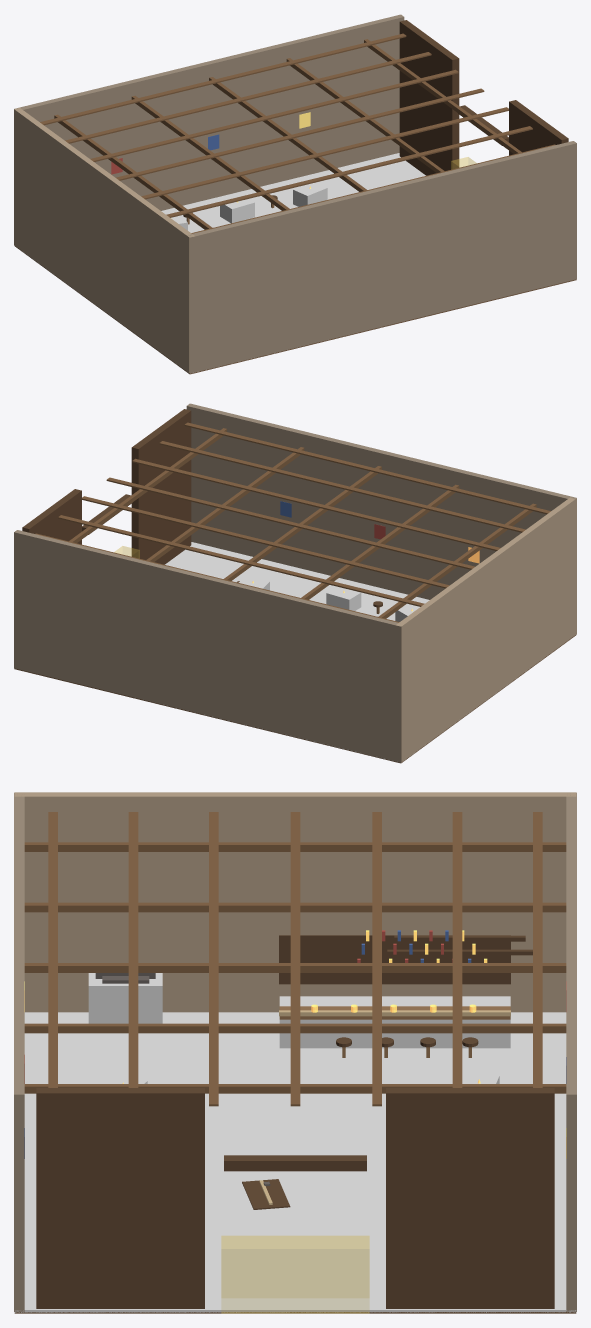
The model's file is town_tavern.glb.
3 views of the same model, one above another, from view 1: azimuth 30°, elevation 25°; view 2: azimuth 150°, elevation 25°; view 3: azimuth 270°, elevation 25° (orthographic). The views are drawn at different scales.
Parts seen in each view (by area): view 1: VIS_batch_MAT_tavern_smoky_plaster, VIS_west_bar_wall, VIS_batch_MAT_tavern_iso_hidden_ceiling, VIS_batch_MAT_tavern_dark_oak, COL_world_floor, VIS_floor_base, COL_table_north, COL_table_northeast; view 2: VIS_batch_MAT_tavern_smoky_plaster, VIS_west_bar_wall, VIS_batch_MAT_tavern_iso_hidden_ceiling, VIS_batch_MAT_tavern_dark_oak, COL_world_floor, VIS_floor_base, COL_table_south; view 3: VIS_batch_MAT_tavern_dark_oak, VIS_west_bar_wall, COL_world_floor, VIS_batch_MAT_tavern_iso_hidden_ceiling, TRG_exit_east_square, VIS_batch_MAT_tavern_smoky_plaster, COL_bar, COL_fireplace, VIS_batch_MAT_tavern_worn_wood, VIS_batch_MAT_tavern_worn_trim, VIS_floor_base, VIS_batch_MAT_tavern_amber_glow.
Part boxes in pixels (x1=…): VIS_batch_MAT_tavern_smoky_plaster: x1=14, y1=14, x2=576, y2=373; VIS_west_bar_wall: x1=14, y1=107, x2=194, y2=373; VIS_batch_MAT_tavern_iso_hidden_ceiling: x1=40, y1=33, x2=555, y2=233; VIS_batch_MAT_tavern_dark_oak: x1=183, y1=20, x2=568, y2=217; COL_world_floor: x1=24, y1=153, x2=425, y2=373; VIS_floor_base: x1=14, y1=245, x2=576, y2=374; COL_table_north: x1=220, y1=195, x2=254, y2=223; COL_table_northeast: x1=293, y1=182, x2=327, y2=206; VIS_batch_MAT_tavern_smoky_plaster: x1=14, y1=403, x2=576, y2=762; VIS_west_bar_wall: x1=396, y1=497, x2=576, y2=762; VIS_batch_MAT_tavern_iso_hidden_ceiling: x1=35, y1=422, x2=550, y2=622; VIS_batch_MAT_tavern_dark_oak: x1=22, y1=409, x2=399, y2=621; COL_world_floor: x1=163, y1=542, x2=525, y2=762; VIS_floor_base: x1=14, y1=634, x2=576, y2=763; COL_table_south: x1=326, y1=586, x2=361, y2=610; VIS_batch_MAT_tavern_dark_oak: x1=36, y1=935, x2=554, y2=1308; VIS_west_bar_wall: x1=14, y1=792, x2=576, y2=1012; COL_world_floor: x1=14, y1=1012, x2=576, y2=1312; VIS_batch_MAT_tavern_iso_hidden_ceiling: x1=24, y1=812, x2=566, y2=1106; TRG_exit_east_square: x1=221, y1=1236, x2=369, y2=1313; VIS_batch_MAT_tavern_smoky_plaster: x1=14, y1=792, x2=576, y2=1311; COL_bar: x1=279, y1=996, x2=510, y2=1048; COL_fireplace: x1=88, y1=973, x2=162, y2=1023; VIS_batch_MAT_tavern_worn_wood: x1=279, y1=1006, x2=510, y2=1057; VIS_batch_MAT_tavern_worn_trim: x1=259, y1=1010, x2=510, y2=1204; VIS_floor_base: x1=14, y1=1312, x2=576, y2=1313; VIS_batch_MAT_tavern_amber_glow: x1=24, y1=930, x2=566, y2=1158.
Size of the model in its own units: 28.2 by 9.48 by 22.06.
